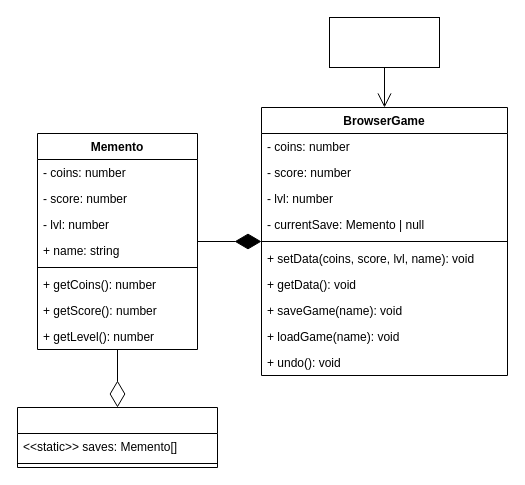
This 525x485 diagram has some shape labels left out. The shapes that lost their labels are listed below. From the top down, each one's box as (x1, y1, x2, y2) in pixels, then its label:
(328, 16, 440, 68): Client
(16, 406, 218, 468): SaveDirectory
